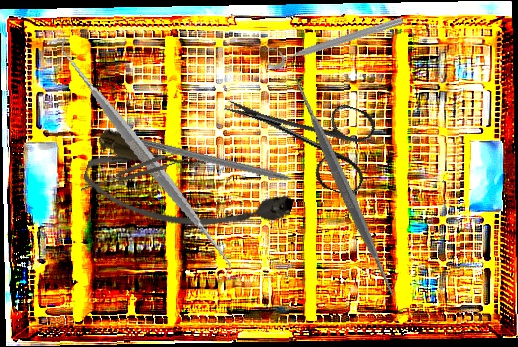Cannula: (77, 125, 299, 258)
Fixation Ring: (262, 5, 406, 72)
Hook Surgical: (136, 137, 316, 191)
Iris Scissors: (210, 66, 385, 199)
Spatula Surgical: (20, 34, 271, 277), (224, 67, 465, 306)
Tissue Forceps: (78, 146, 194, 196)
